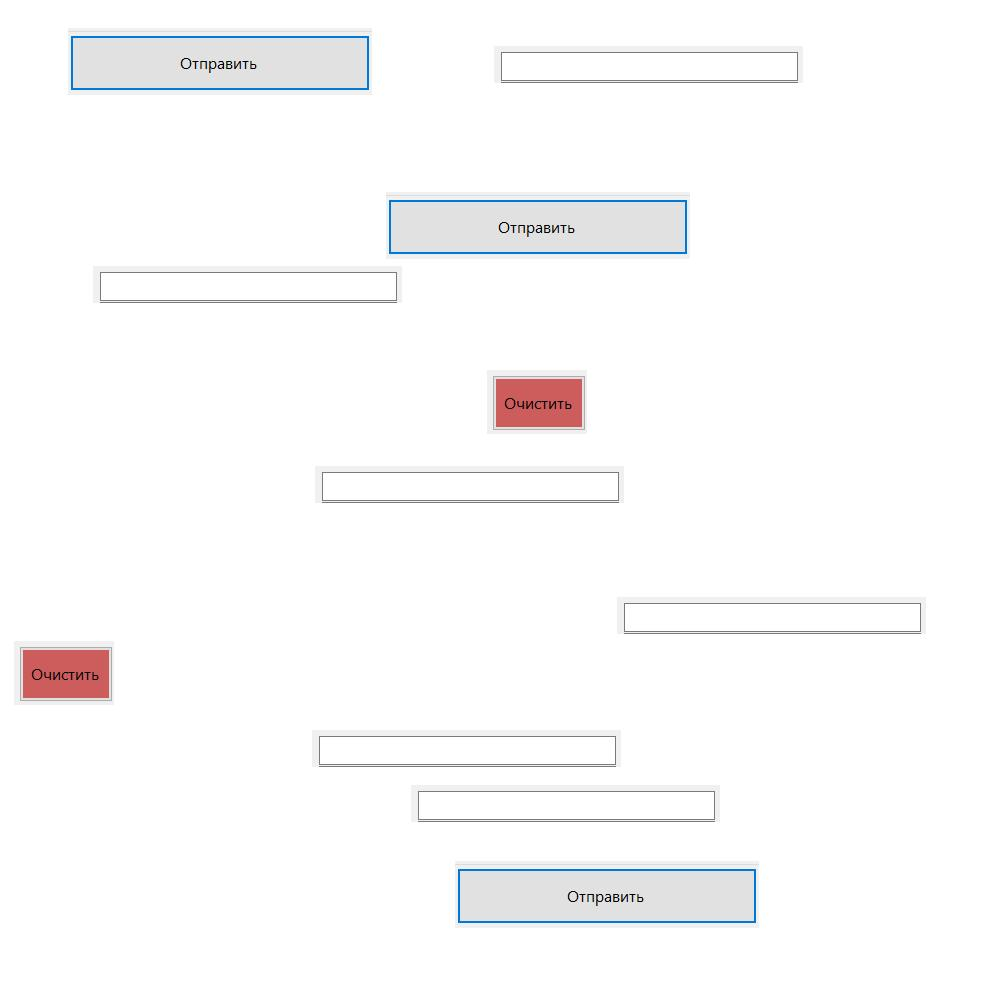Button: (68, 28, 372, 95), (386, 192, 690, 259), (455, 861, 759, 928), (14, 641, 114, 705), (487, 370, 587, 434)
EditText-: (93, 266, 402, 303), (315, 466, 624, 503), (411, 785, 720, 822), (494, 46, 803, 83), (312, 730, 621, 767), (617, 597, 926, 634)
